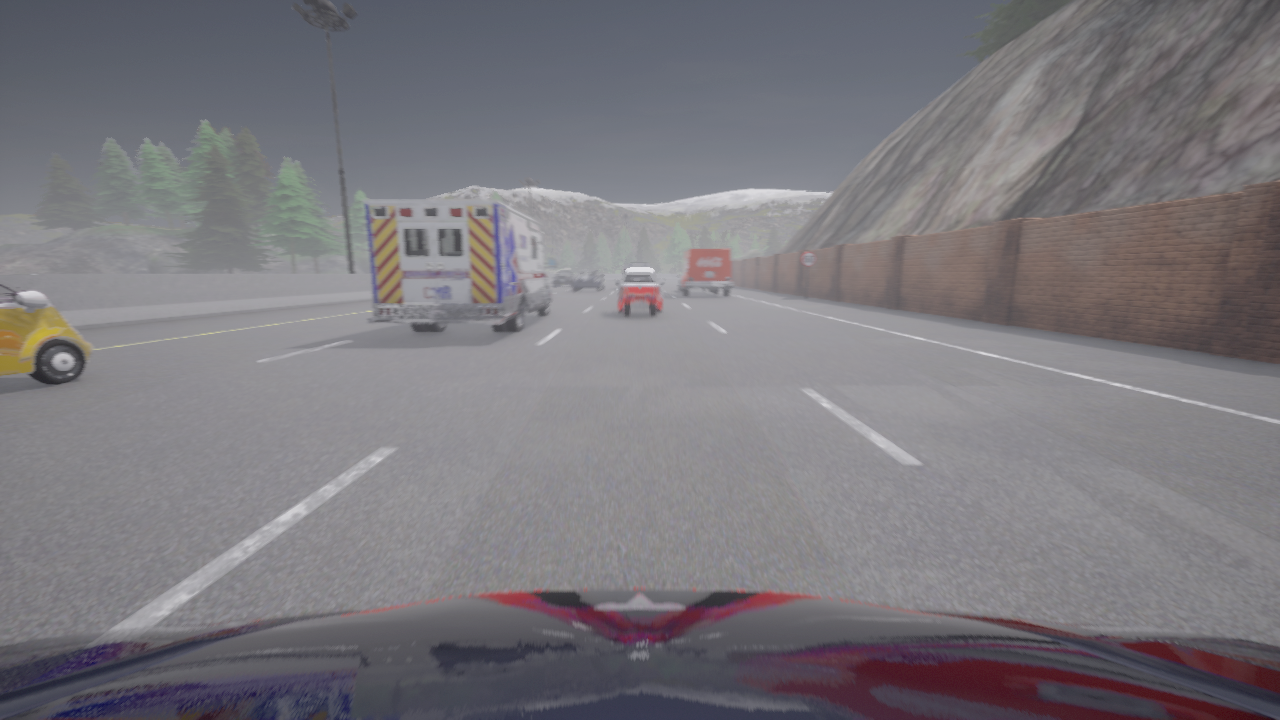cyclist: (0, 588, 1279, 719), (363, 199, 557, 332), (678, 247, 733, 296), (616, 268, 663, 316), (573, 269, 603, 291), (677, 275, 711, 292), (622, 262, 650, 279), (554, 271, 575, 286)
